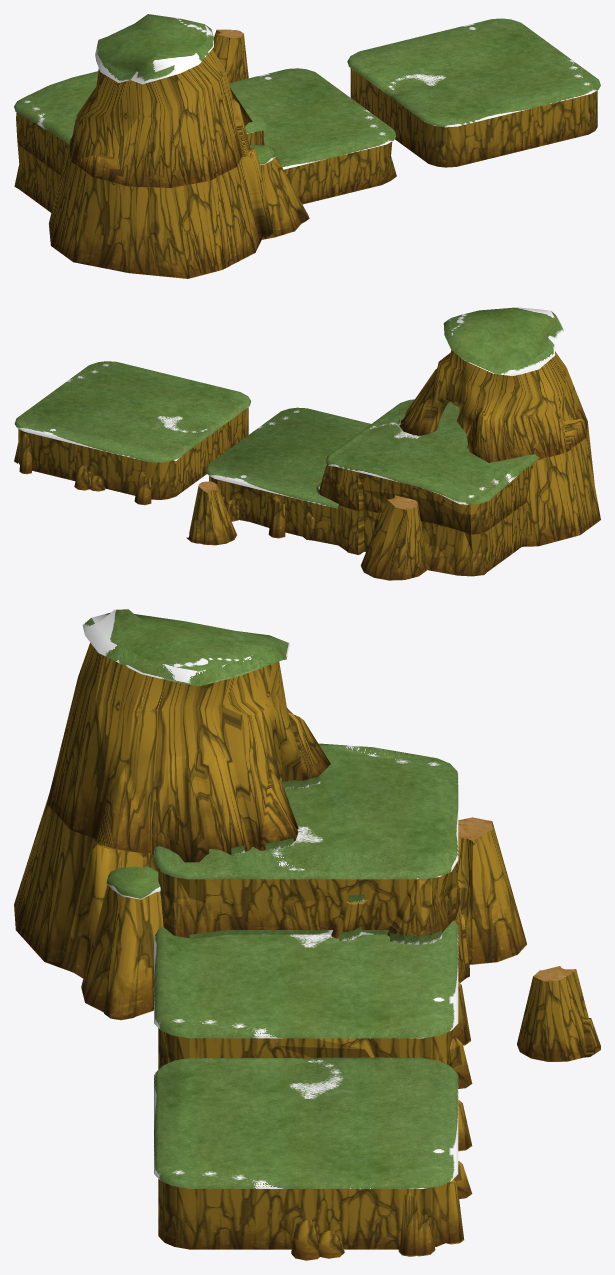
Rendered from terrain12_1.FBX.
3 renders of one model, top to bottom at view 1: azimuth 30°, elevation 25°; view 2: azimuth 150°, elevation 25°; view 3: azimuth 270°, elevation 25°, orthographic. The views are drawn at different scales.
Visible parts, largest first — view 1: Plane004; view 2: Plane004; view 3: Plane004.
Part boxes in pixels (x1,y1,x2,y2): Plane004: [14, 14, 600, 278]; Plane004: [14, 307, 600, 580]; Plane004: [14, 609, 600, 1260].
Bounding box in the file's own units: 1239 × 431 × 760.
